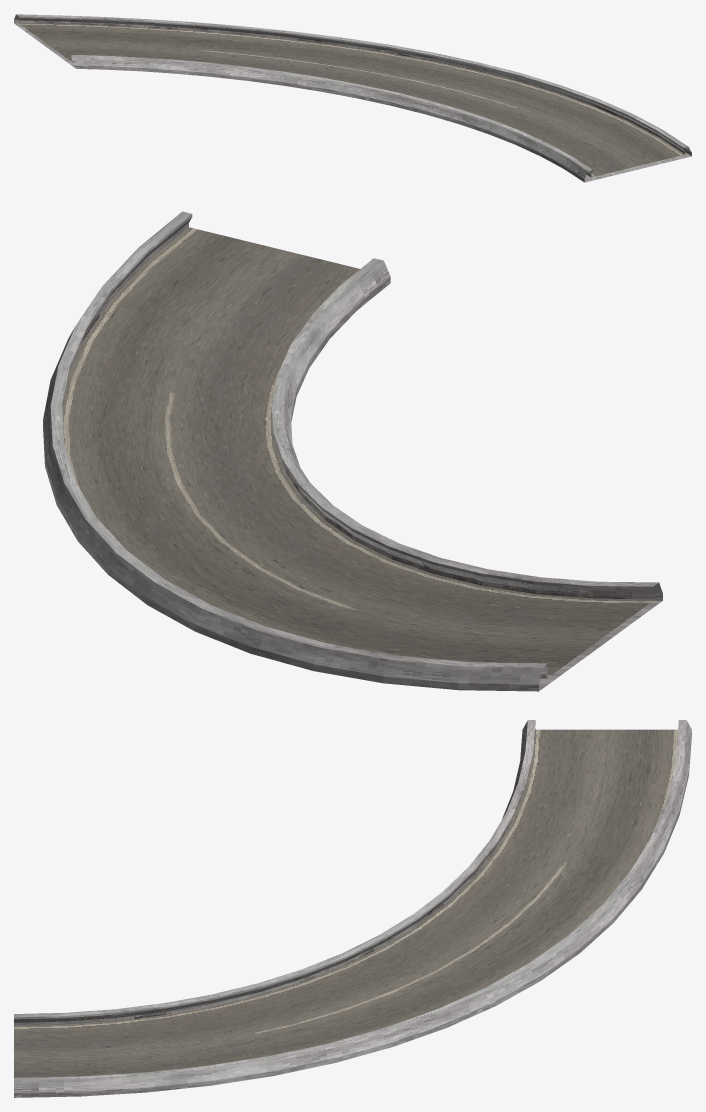
File: road-Turn-Flat-BiSlopeUp-Up2-Left-Size4.glb
3 views of the same model, one above another, from view 1: azimuth 30°, elevation 25°; view 2: azimuth 150°, elevation 25°; view 3: azimuth 270°, elevation 25° (orthographic). The views are drawn at different scales.
Visible parts, largest first — view 1: road-Turn-Flat-BiSlopeUp-Up2-Left-Size4; view 2: road-Turn-Flat-BiSlopeUp-Up2-Left-Size4; view 3: road-Turn-Flat-BiSlopeUp-Up2-Left-Size4.
Part boxes in pixels (x1,y1,x2,y2): road-Turn-Flat-BiSlopeUp-Up2-Left-Size4: [14, 14, 691, 182]; road-Turn-Flat-BiSlopeUp-Up2-Left-Size4: [43, 211, 662, 691]; road-Turn-Flat-BiSlopeUp-Up2-Left-Size4: [14, 720, 691, 1097].
Size of the model in its own units: 4 by 0.595 by 4.
Materials: 2 (2 with a texture image).
